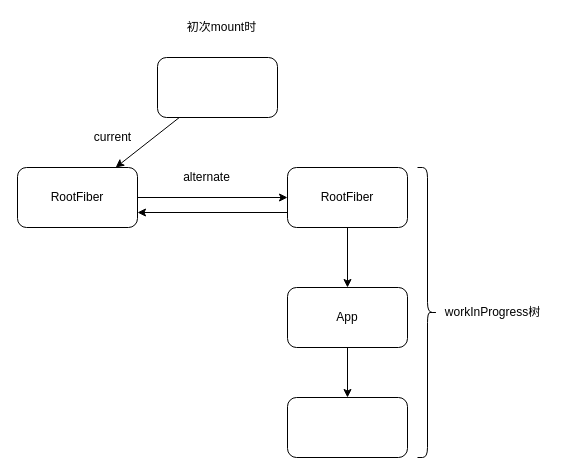
Some shapes in this 565 by 475 pixel diagram are drawn without their labels. The shapes that lost their labels are listed below. From the top down, each one's centre as x and y in pixels, then its label:
pixel 217 87: FiberRoot
pixel 347 427: div
